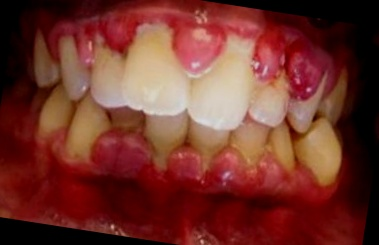Gingivitis: (81, 168, 279, 244), (168, 14, 229, 76), (280, 31, 329, 99), (94, 126, 155, 173)
